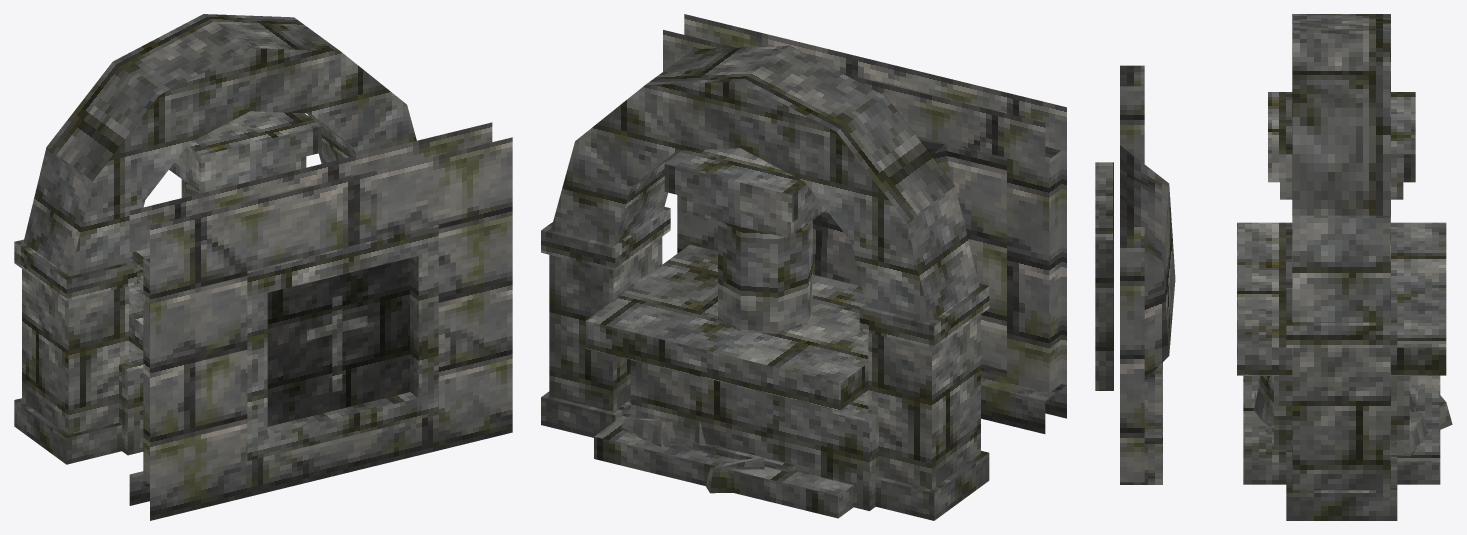
File: crypt_v1_kit.glb
3 renders of one model, left to right at view 1: azimuth 30°, elevation 25°; view 2: azimuth 150°, elevation 25°; view 3: azimuth 270°, elevation 25°, orthographic. The views are drawn at different scales.
Visible parts, largest first — view 1: crypt_wall, crypt_arch, crypt_niche, crypt_wall_damaged, crypt_pillar, crypt_fallen_column, crypt_altar; view 2: crypt_arch, crypt_wall, crypt_altar, crypt_pillar, crypt_sarcophagus, crypt_wall_damaged, crypt_fallen_column, crypt_rubble_b; view 3: crypt_arch, crypt_altar, crypt_wall, crypt_wall_damaged, crypt_pillar, crypt_niche, crypt_sarcophagus, crypt_rubble_b.
Boxes of the visible parts, x1,y1,x2,y2 form: crypt_wall: (129, 122, 512, 520); crypt_arch: (14, 14, 416, 464); crypt_niche: (247, 224, 438, 460); crypt_wall_damaged: (195, 191, 467, 477); crypt_pillar: (169, 111, 321, 197); crypt_fallen_column: (119, 341, 143, 455); crypt_altar: (129, 248, 149, 451); crypt_arch: (541, 45, 989, 520); crypt_wall: (663, 14, 1066, 433); crypt_altar: (585, 244, 868, 518); crypt_pillar: (664, 148, 825, 472); crypt_sarcophagus: (629, 321, 836, 478); crypt_wall_damaged: (812, 136, 1006, 370); crypt_fallen_column: (827, 391, 878, 510); crypt_rubble_b: (621, 416, 764, 493); crypt_arch: (1286, 14, 1397, 520); crypt_altar: (1237, 222, 1446, 484); crypt_wall: (1120, 65, 1162, 484); crypt_wall_damaged: (1120, 145, 1175, 379); crypt_pillar: (1268, 92, 1415, 433); crypt_niche: (1095, 162, 1113, 390); crypt_sarcophagus: (1255, 375, 1427, 451); crypt_rubble_b: (1254, 376, 1452, 455).
Size of the model in its own units: 74 by 70 by 58.
2 materials, 2 textured.
